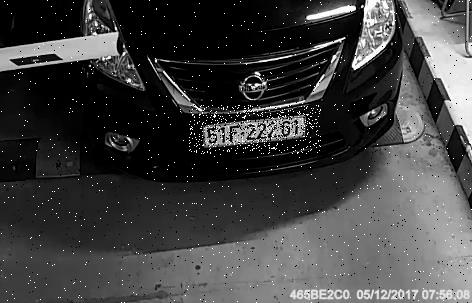License-plate: (190, 106, 322, 155)
